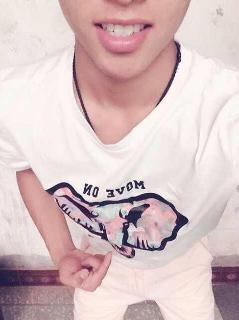short sleeve top: (0, 40, 239, 270)
trousers: (73, 229, 216, 319)
